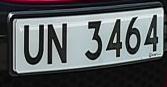3: (81, 16, 105, 61)
4: (143, 10, 161, 58), (105, 15, 124, 59)
6: (124, 12, 142, 59)
N: (44, 20, 70, 65)
U: (21, 21, 45, 69)
